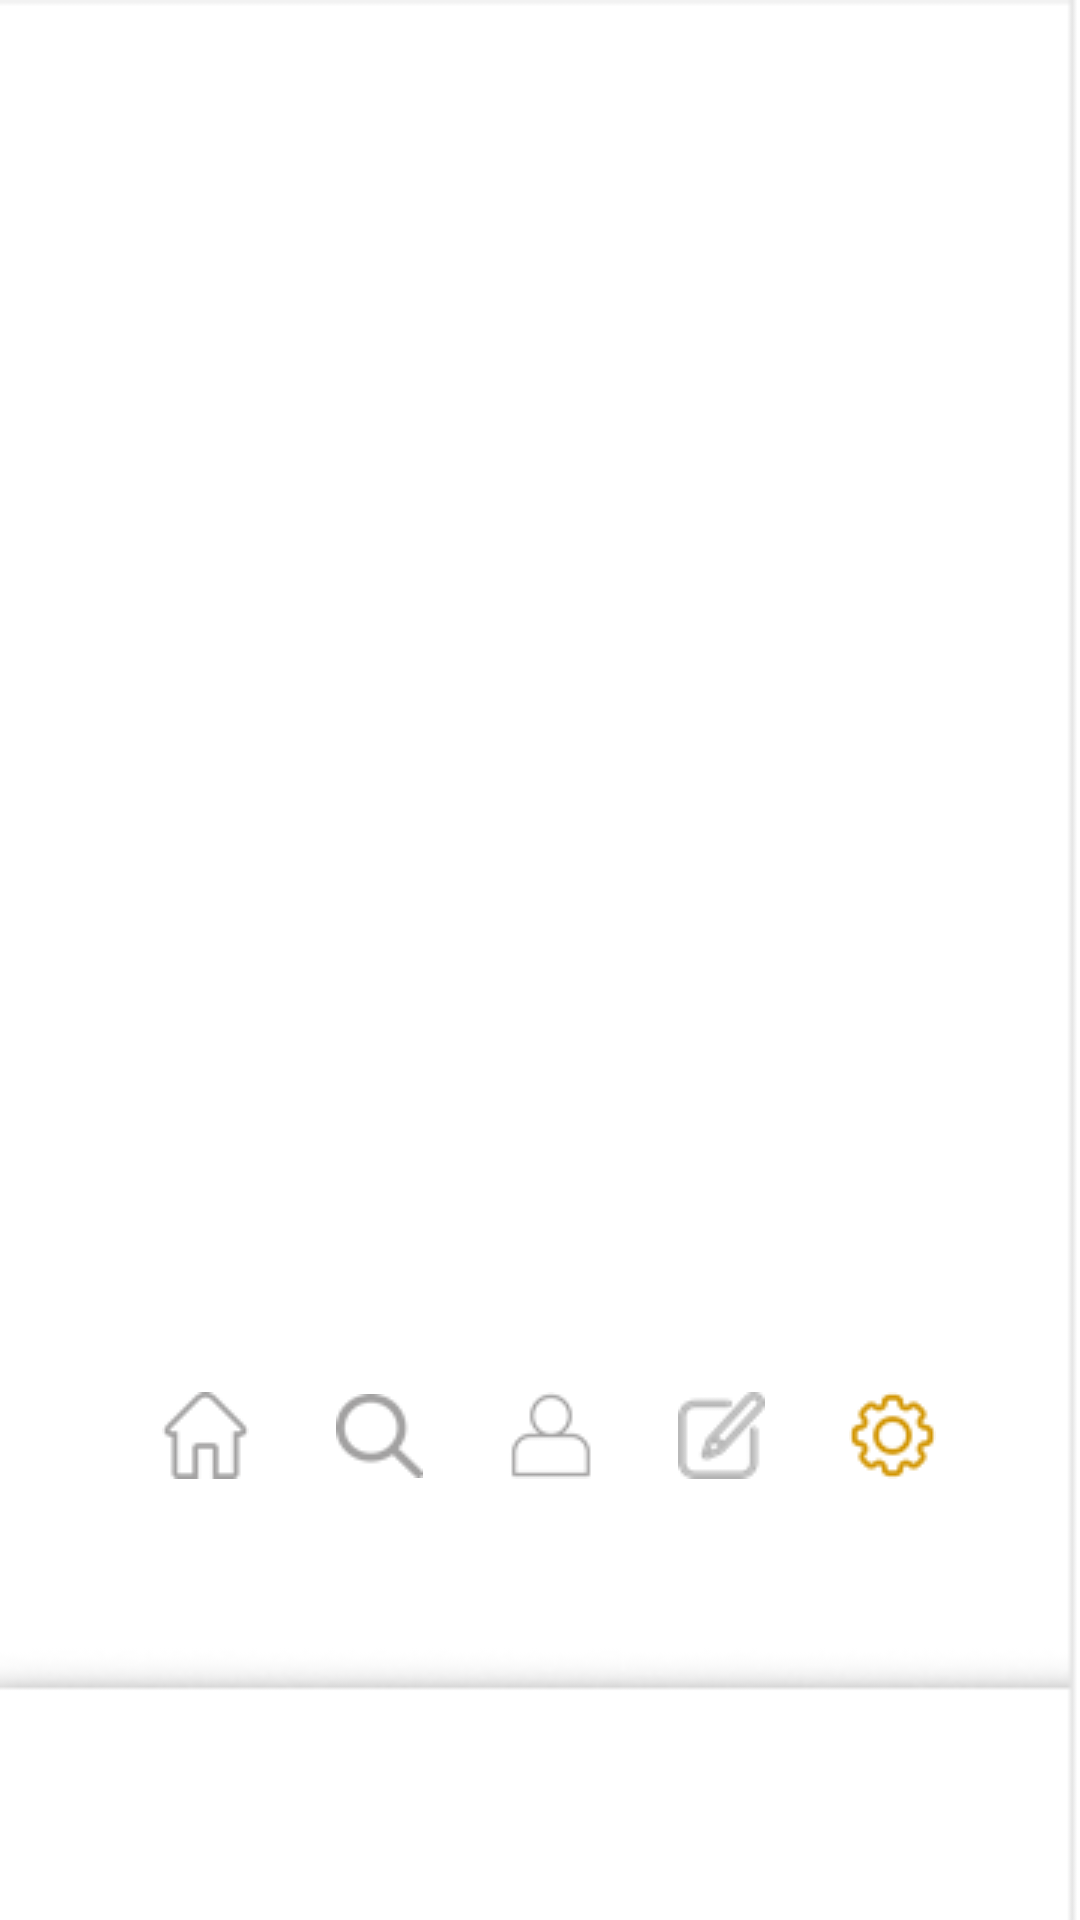

Icon bounding boxes for this 1080×1920 phone screenshot, format (x1, y1, x2, y2):
config: (851, 1392, 936, 1479)
home: (164, 1392, 247, 1479)
pessoa: (511, 1394, 591, 1477)
searche: (336, 1394, 423, 1478)
